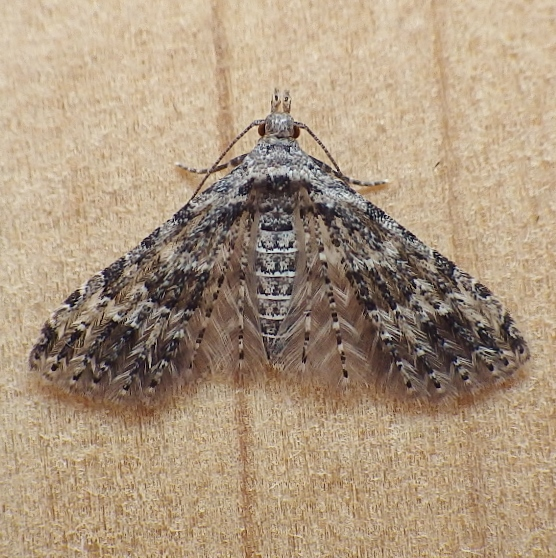Alucitidae: (22, 82, 529, 416)
moth: (20, 80, 527, 414)
